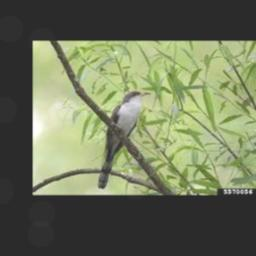Cuckoo: (97, 90, 149, 189)
